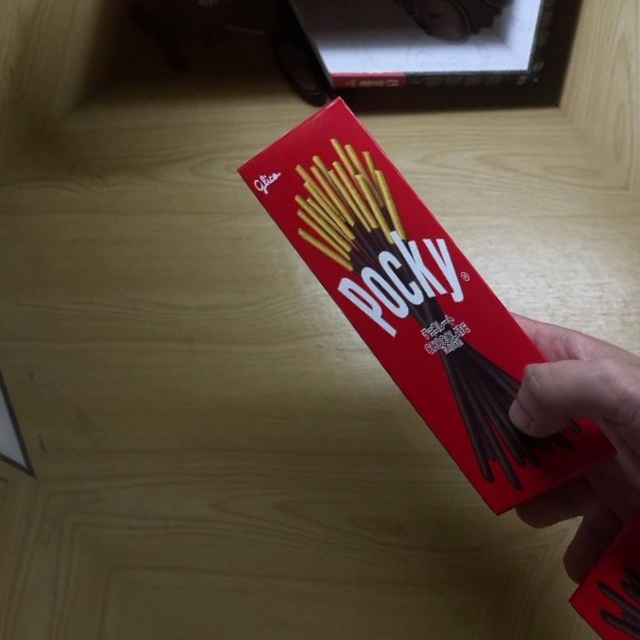Pocky: (215, 86, 635, 546)
